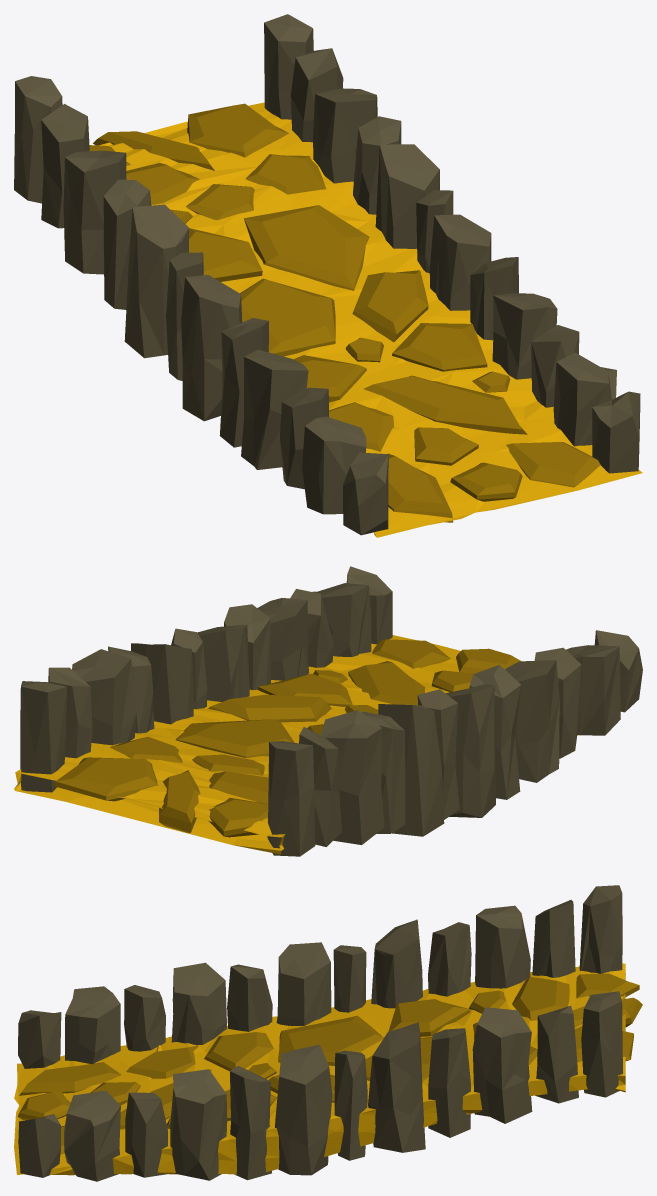
The model's file is stm_env_BridgeSide2.fbx.
3 renders of one model, top to bottom at view 1: azimuth 30°, elevation 25°; view 2: azimuth 150°, elevation 25°; view 3: azimuth 270°, elevation 25°, orthographic. The views are drawn at different scales.
Visible parts, largest first — view 1: Bridge_Side_2; view 2: Bridge_Side_2; view 3: Bridge_Side_2.
Boxes of the visible parts, bbox=[...] form: Bridge_Side_2: bbox=[14, 14, 642, 537]; Bridge_Side_2: bbox=[14, 566, 642, 856]; Bridge_Side_2: bbox=[14, 885, 642, 1181].
Bounding box in the file's own units: 521 × 340 × 1072.
